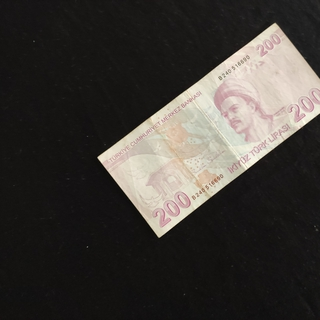200TLBack: (97, 22, 320, 239)
